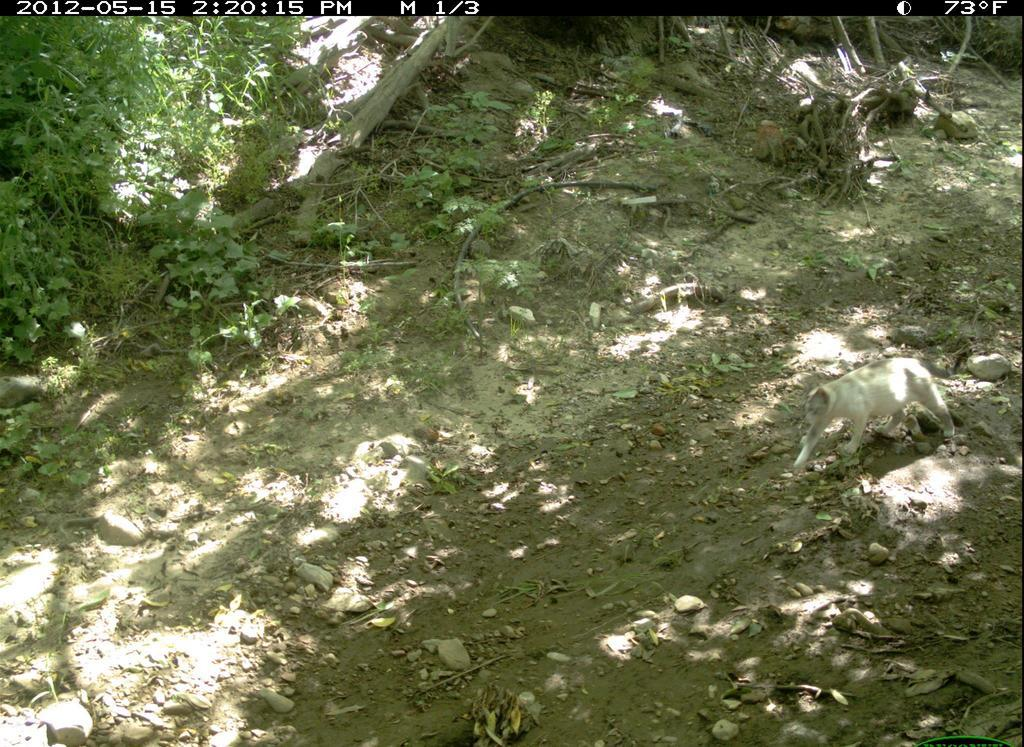cat: (785, 346, 973, 481)
